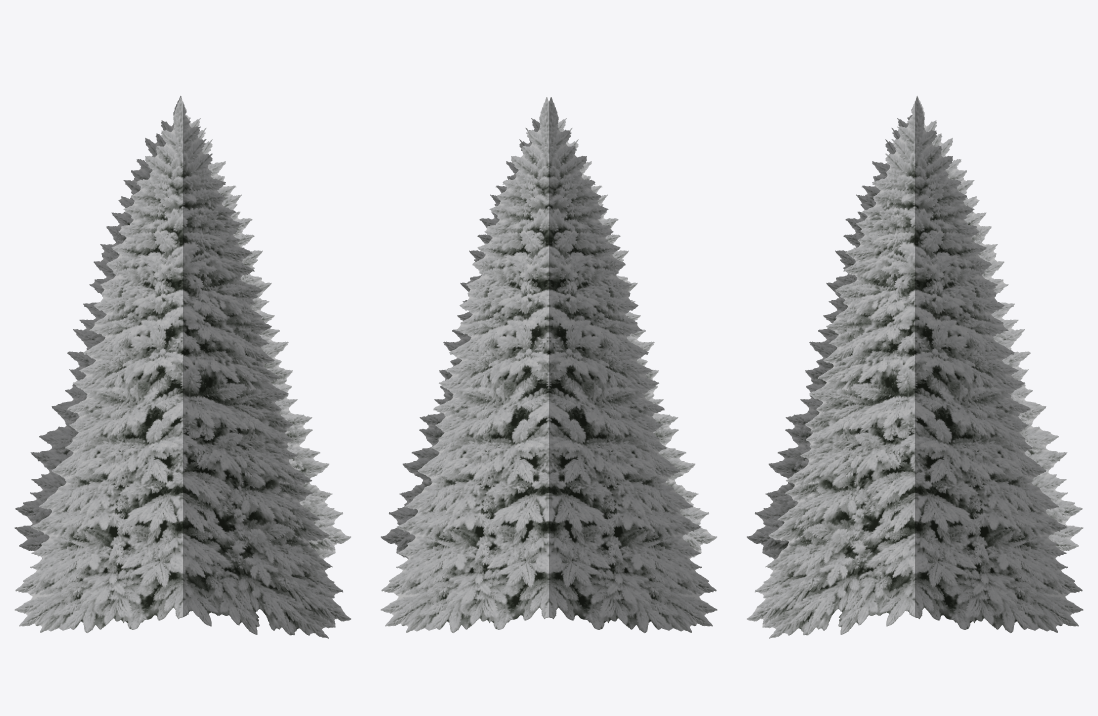
Rendered from 04-branca-nevada-2-10m.glb.
3 renders of one model, left to right at view 1: azimuth 30°, elevation 25°; view 2: azimuth 150°, elevation 25°; view 3: azimuth 270°, elevation 25°, orthographic.
Visible parts, largest first — view 1: 04-branca-nevada-2,1m; view 2: 04-branca-nevada-2,1m; view 3: 04-branca-nevada-2,1m.
Boxes of the visible parts, x1,y1,x2,y2 form: 04-branca-nevada-2,1m: [14, 96, 350, 638]; 04-branca-nevada-2,1m: [380, 97, 717, 632]; 04-branca-nevada-2,1m: [747, 96, 1083, 638].
Bounding box in the file's own units: 1.42 × 2.1 × 1.23.
1 material, 1 textured.
